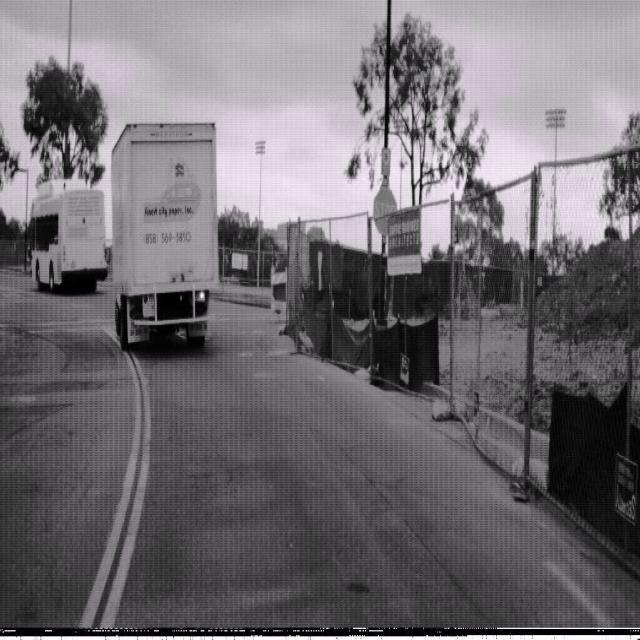stop_sign: (372, 184, 397, 235)
